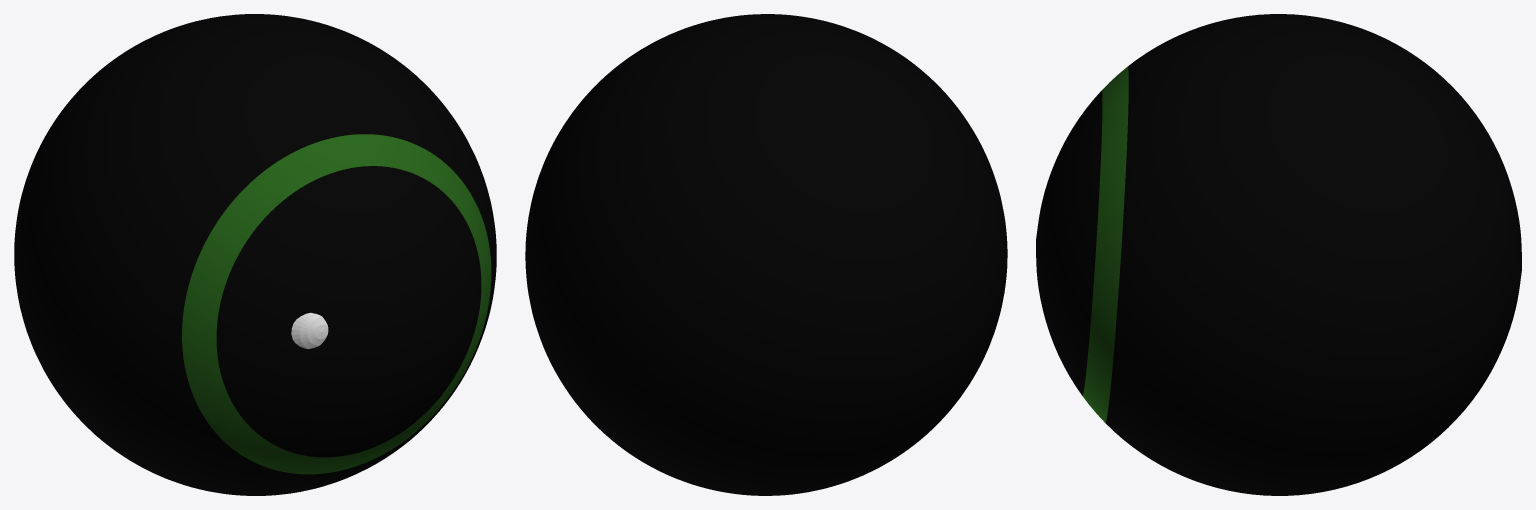
File: cat-eye-left.glb
3 renders of one model, left to right at view 1: azimuth 30°, elevation 25°; view 2: azimuth 150°, elevation 25°; view 3: azimuth 270°, elevation 25°, orthographic.
Visible parts, largest first — view 1: kitten eye left, kitten eye left white; view 2: kitten eye left; view 3: kitten eye left.
Boxes of the visible parts, x1,y1,x2,y2 form: kitten eye left: (14,14,496,495); kitten eye left white: (291,312,328,349); kitten eye left: (525,14,1007,495); kitten eye left: (1036,14,1521,495).
Bounding box in the file's own units: 1.97 × 1.97 × 1.99.
